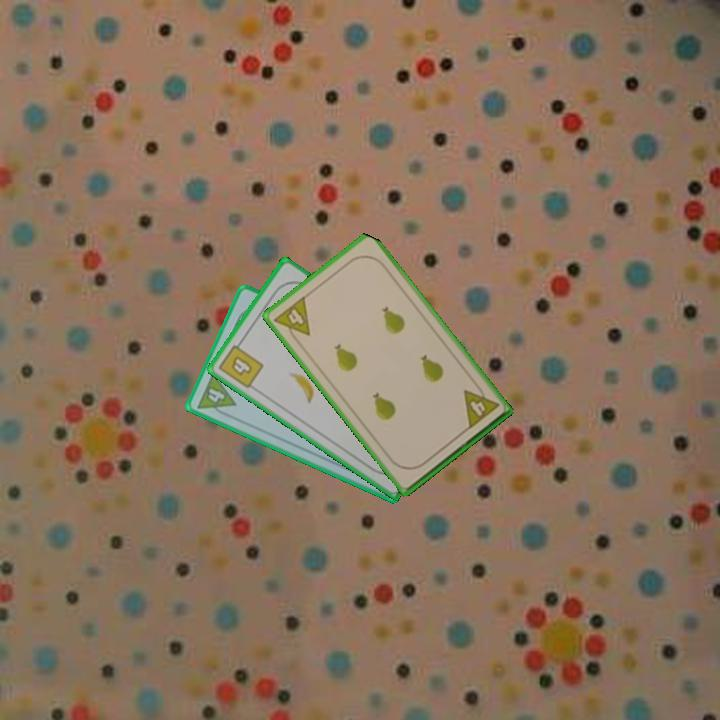4b: (215, 336, 266, 391)
4p: (270, 292, 313, 347), (194, 369, 239, 421), (459, 379, 502, 432)
